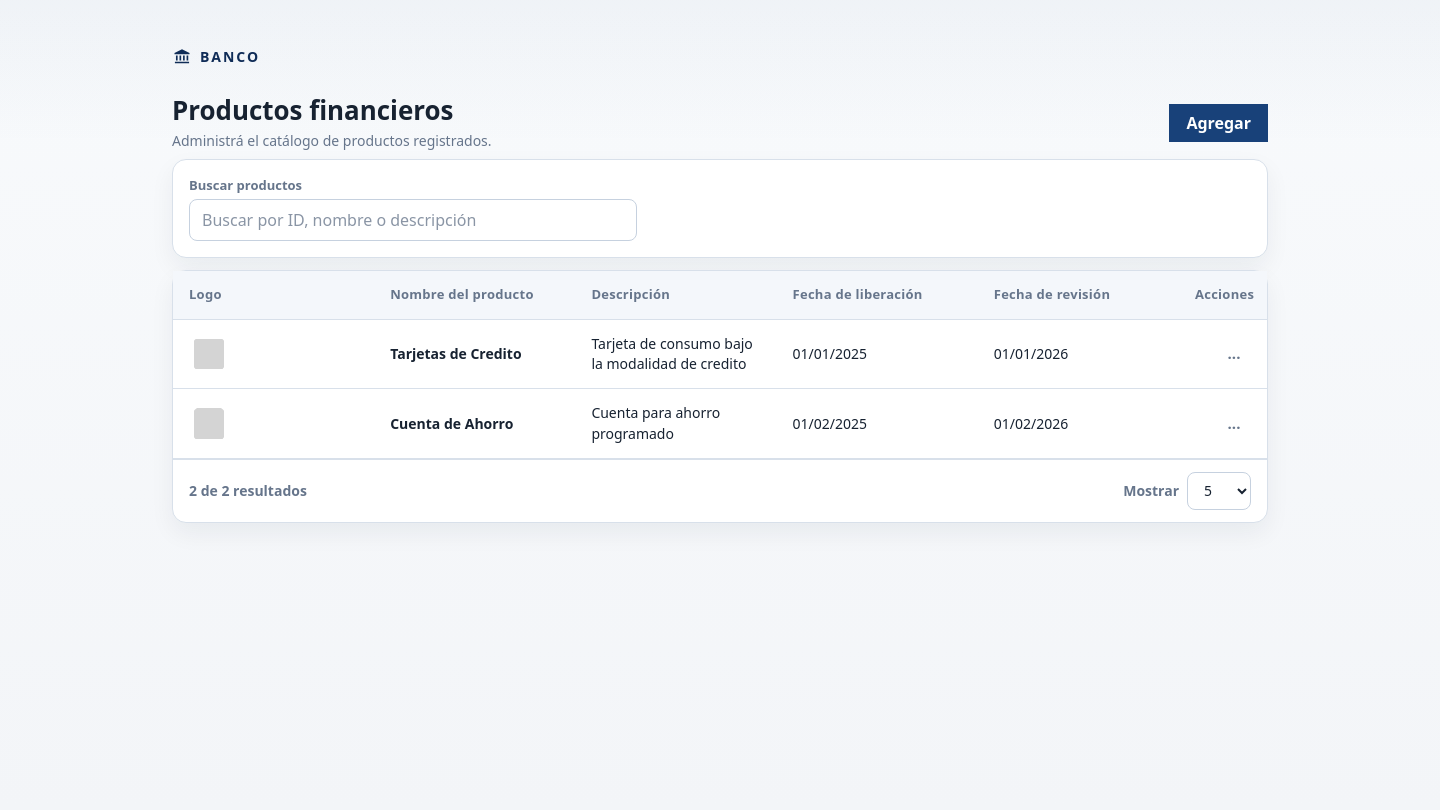
Test: ProductsListPageComponent › should close the dropdown and open the delete modal when selecting Eliminar from the table
Click the button with class "actions-menu__trigger" in the row of "Tarjetas de Credito": [1234, 354] box [1217, 337, 1251, 371]
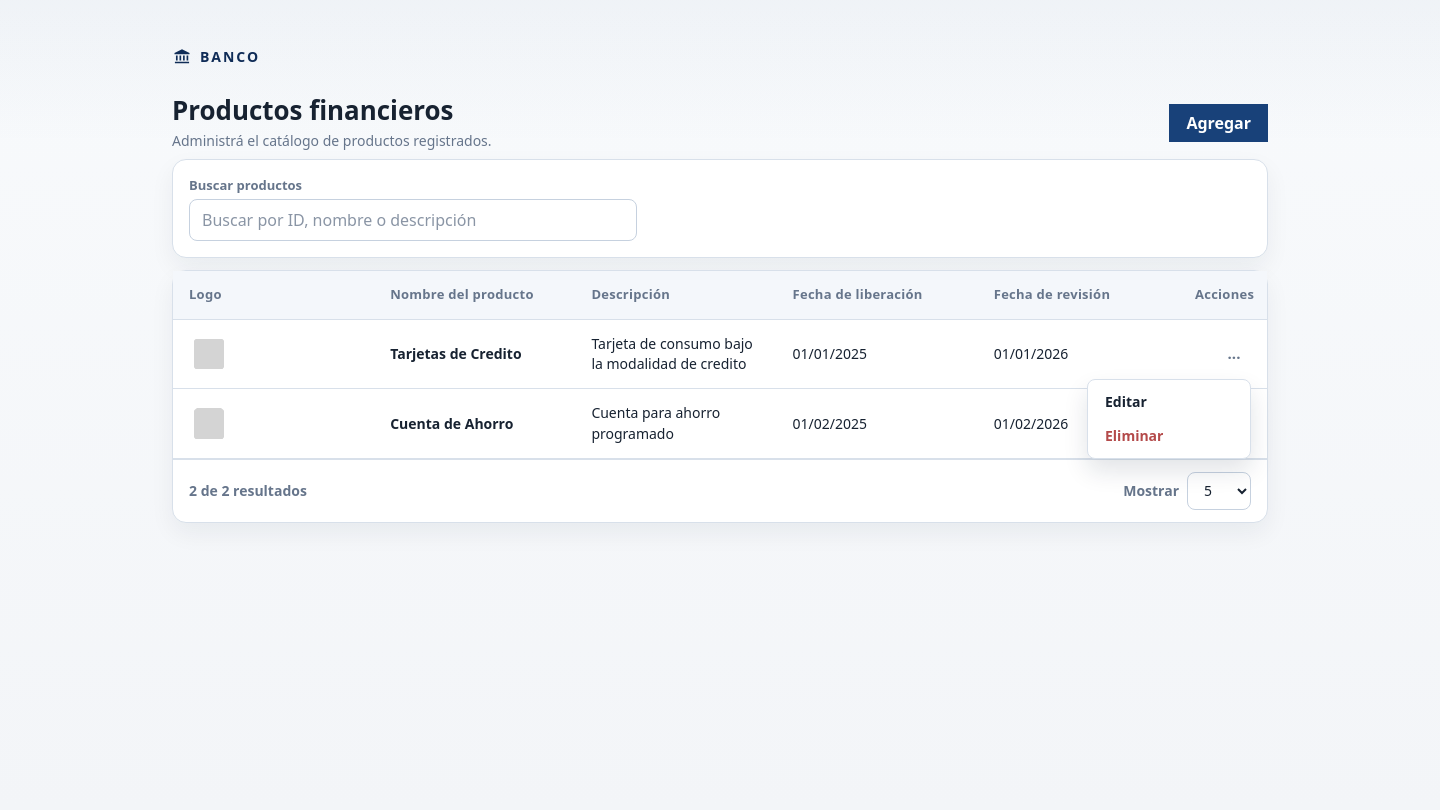
Click the menu item with class "actions-menu__item--danger": [1169, 436] box [1093, 419, 1245, 453]
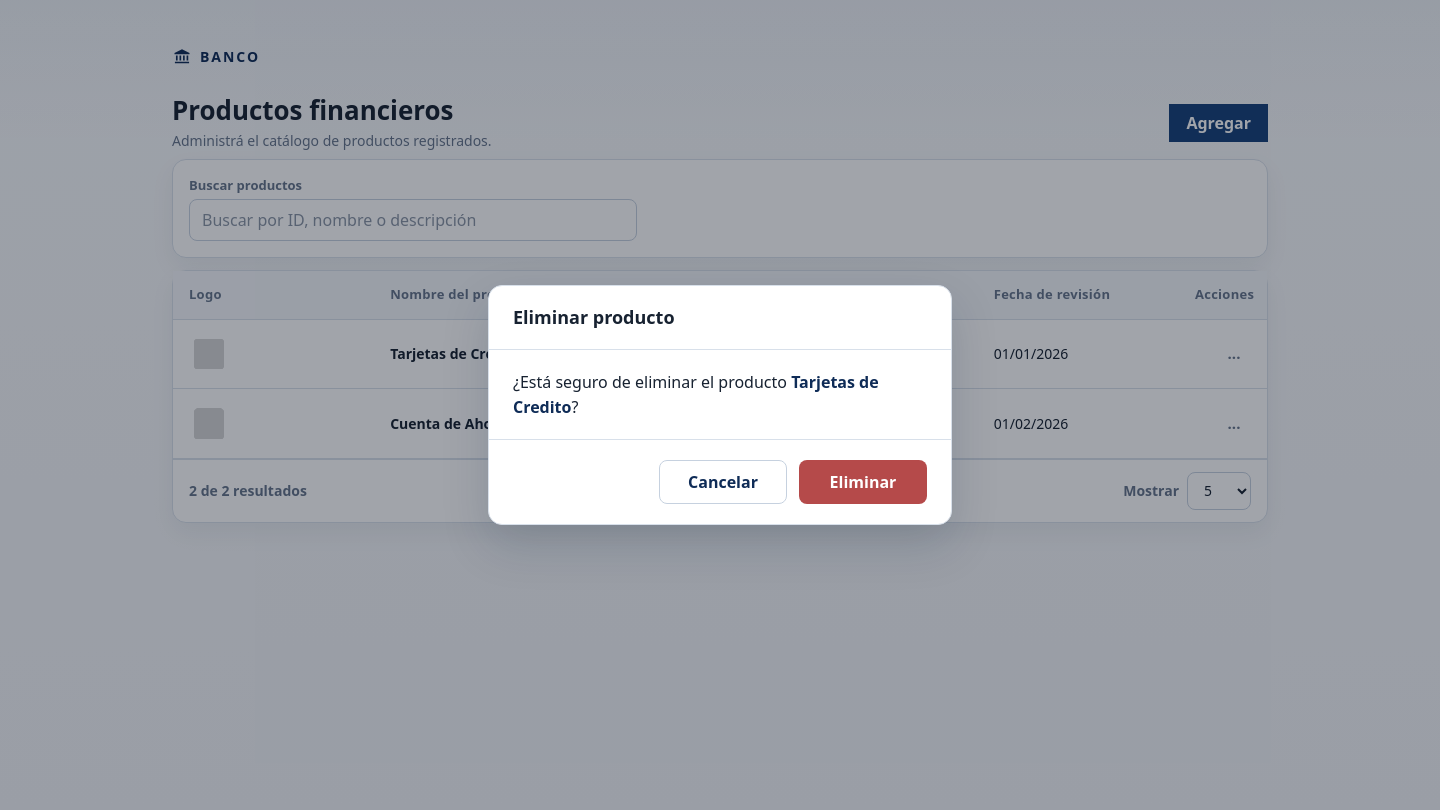
Expected: no menus with class "actions-menu__dropdown" are shown
Expected: the text "¿Está seguro de eliminar el producto Tarjetas de Credito?" is shown, [513, 370, 927, 420]
